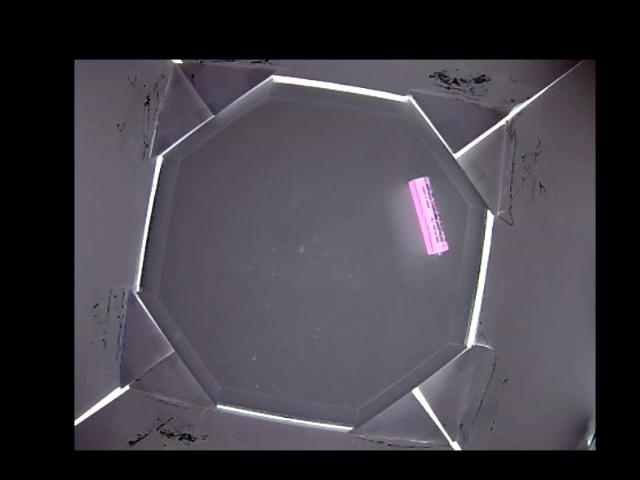Battery: (407, 176, 449, 255)
